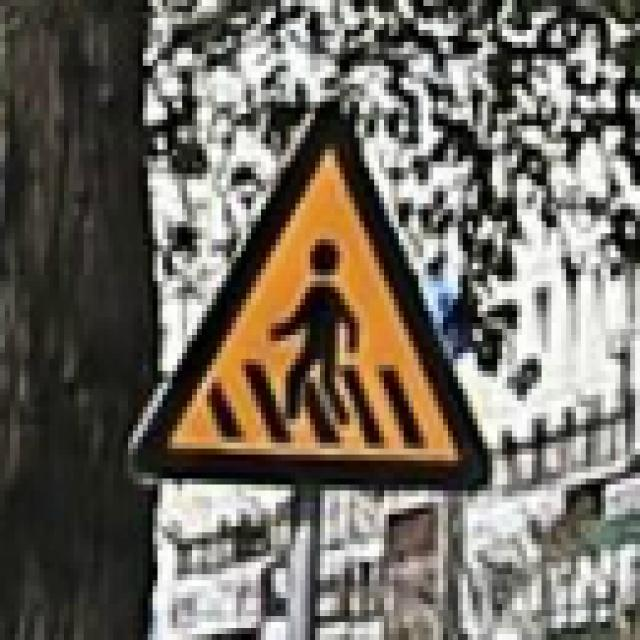Crossing: (132, 93, 492, 492)
